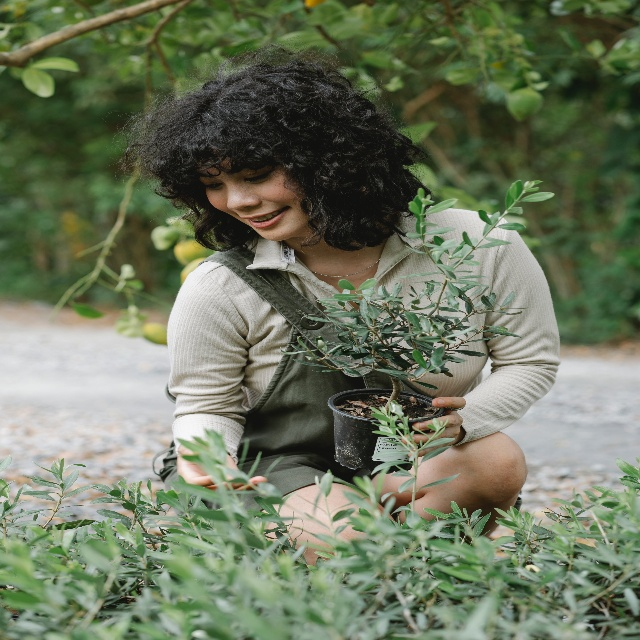Sin_guantes: (176, 442, 267, 490), (400, 396, 466, 458)
